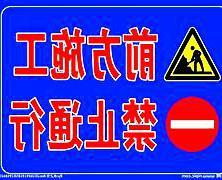sign: (1, 2, 221, 176)
